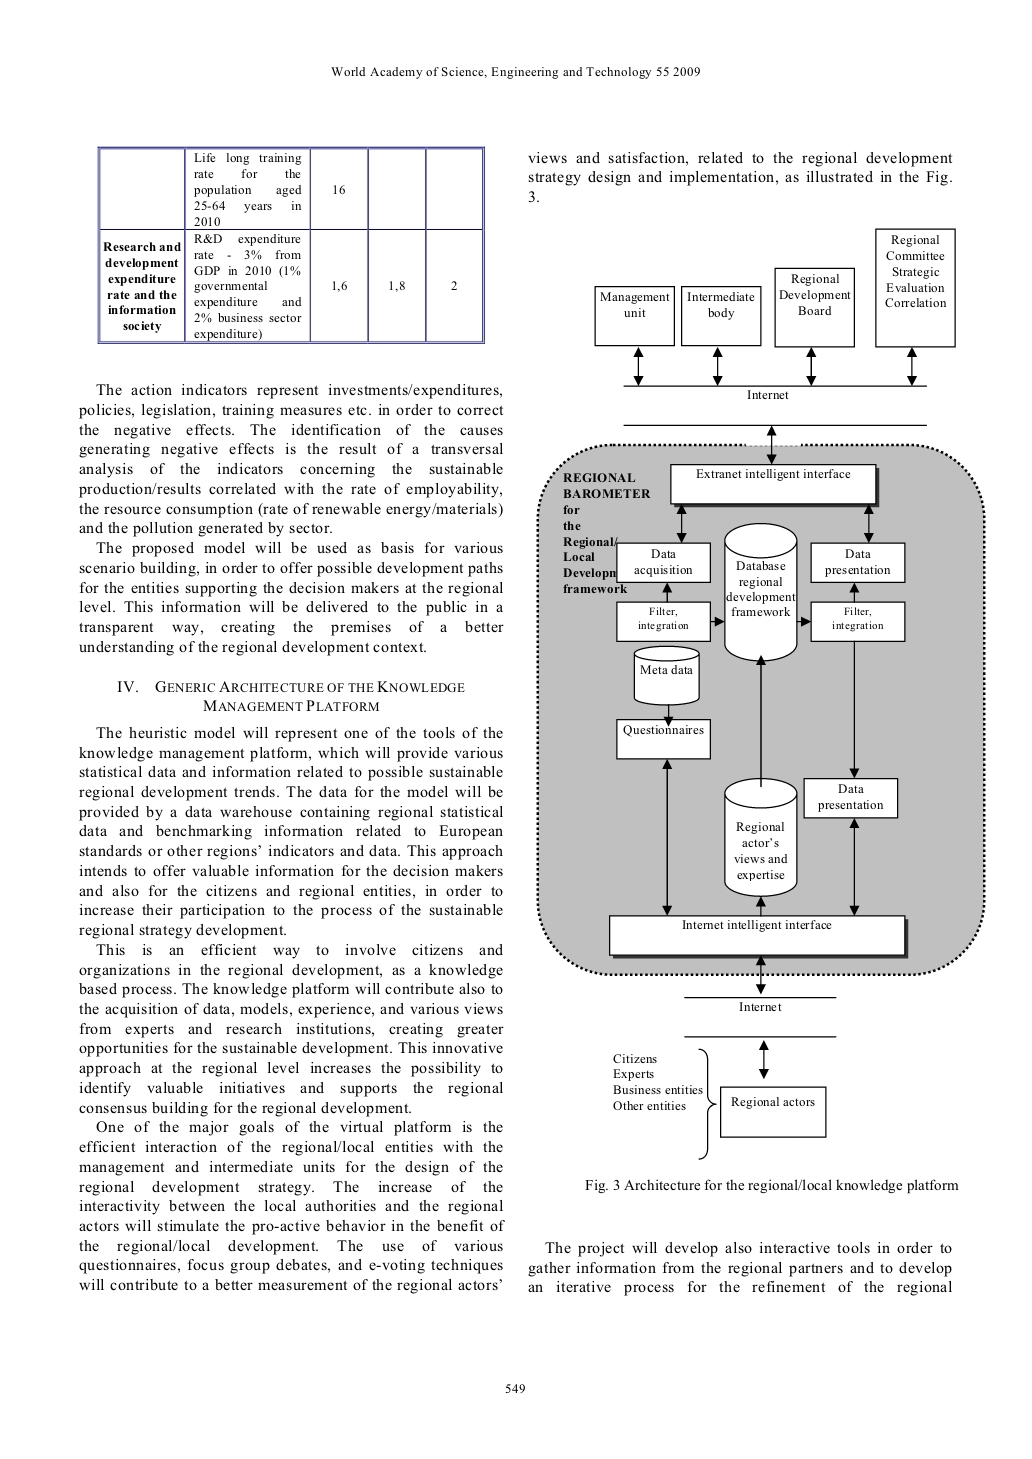Table: (97, 146, 484, 343)
figure: (536, 228, 985, 1159)
